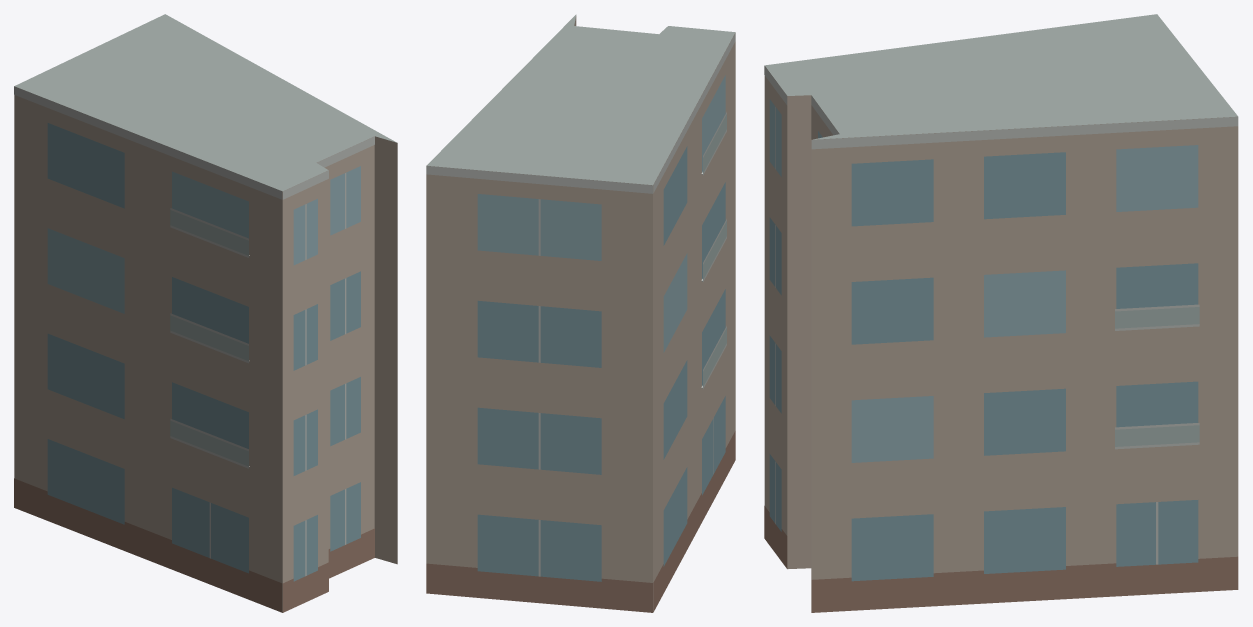
Rendered from survey-upis-32869136.glb.
The picture shows the model from 3 angles, left to right: view 1: azimuth 30°, elevation 25°; view 2: azimuth 150°, elevation 25°; view 3: azimuth 270°, elevation 25°; orthographic projection. The views are drawn at different scales.
Parts seen in each view (by area): view 1: survey-upis-32869136.tmp; view 2: survey-upis-32869136.tmp; view 3: survey-upis-32869136.tmp.
Boxes of the visible parts, x1,y1,x2,y2 form: survey-upis-32869136.tmp: [14, 14, 397, 612]; survey-upis-32869136.tmp: [426, 14, 735, 612]; survey-upis-32869136.tmp: [764, 14, 1238, 612].
Bounding box in the file's own units: 6.85 × 12 × 10.9.
